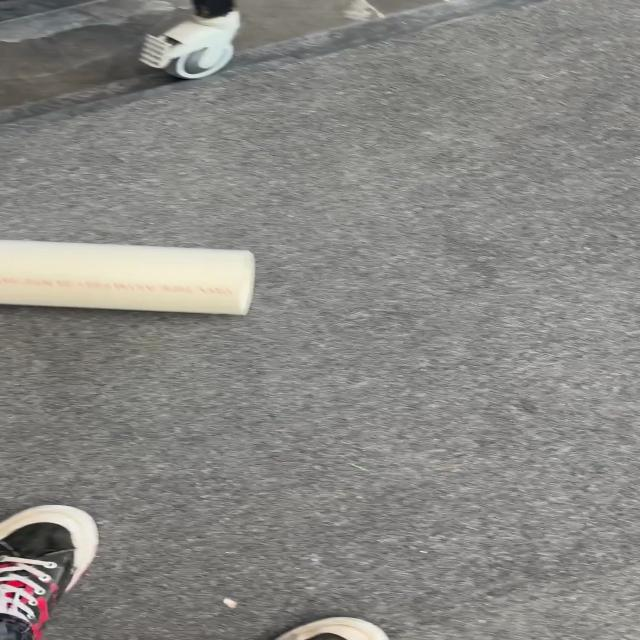Coral: (1, 238, 256, 316), (136, 9, 241, 80)
